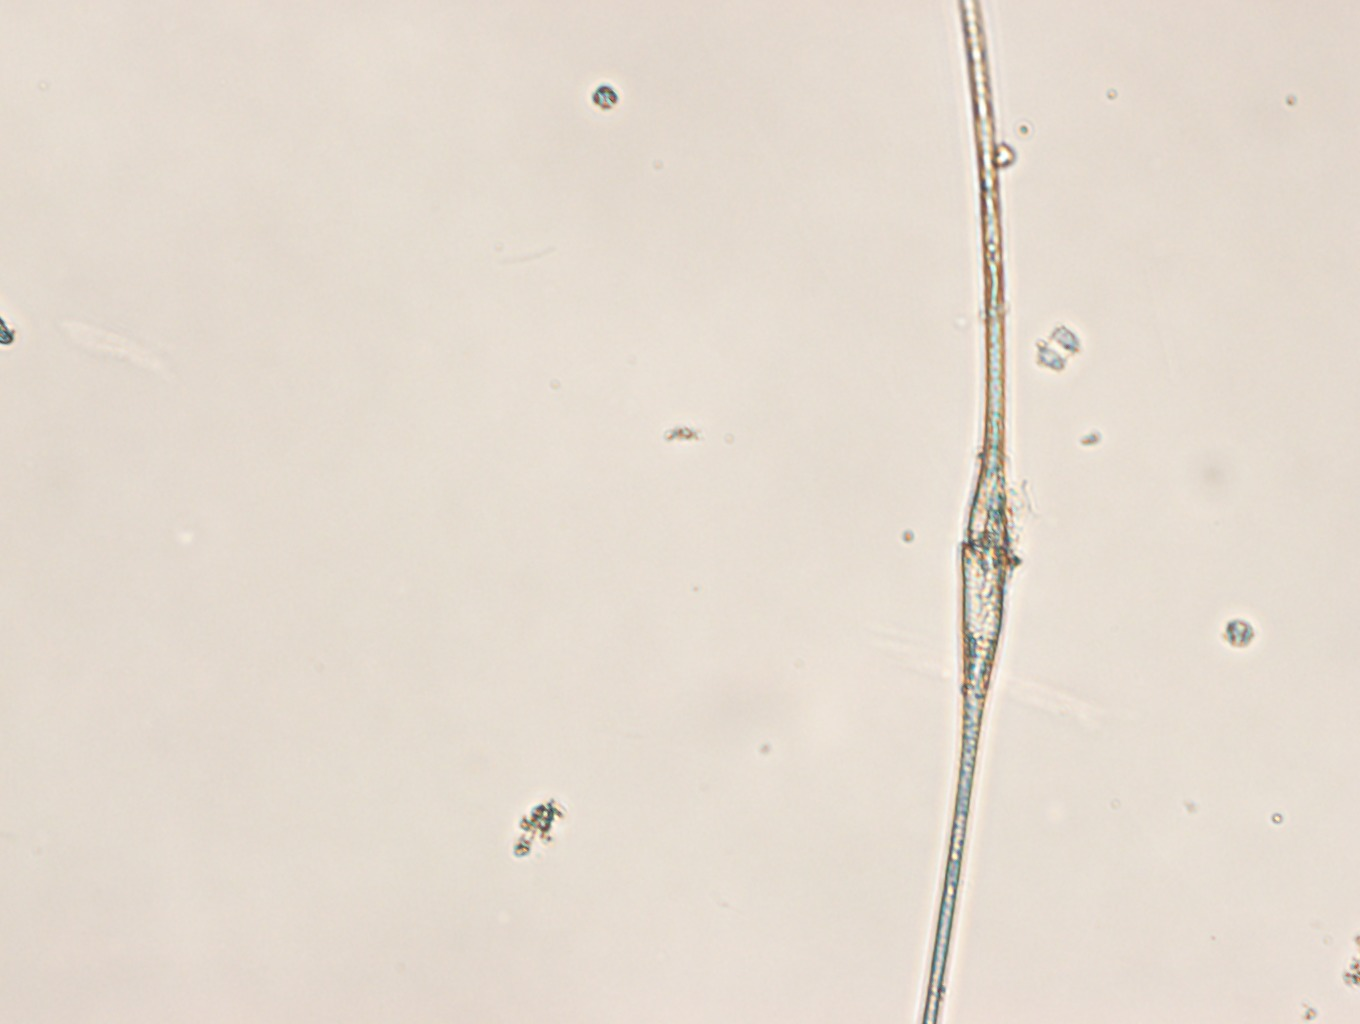ceratium fusus: (919, 1, 1017, 1024)
